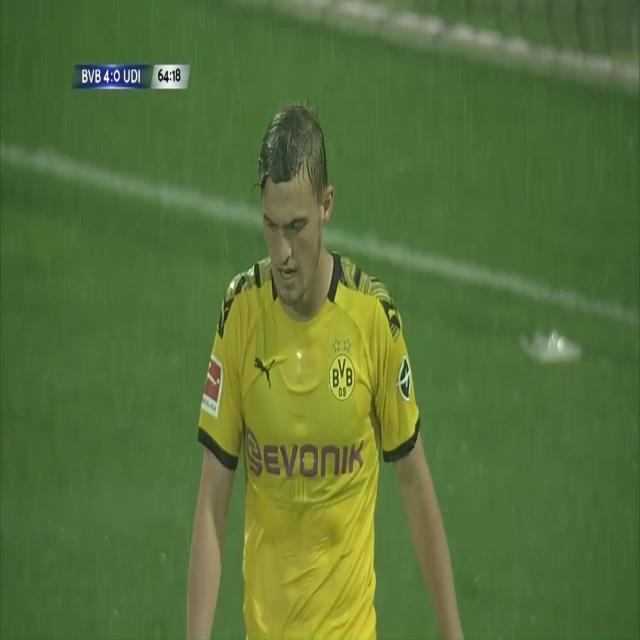player: (164, 66, 474, 640)
